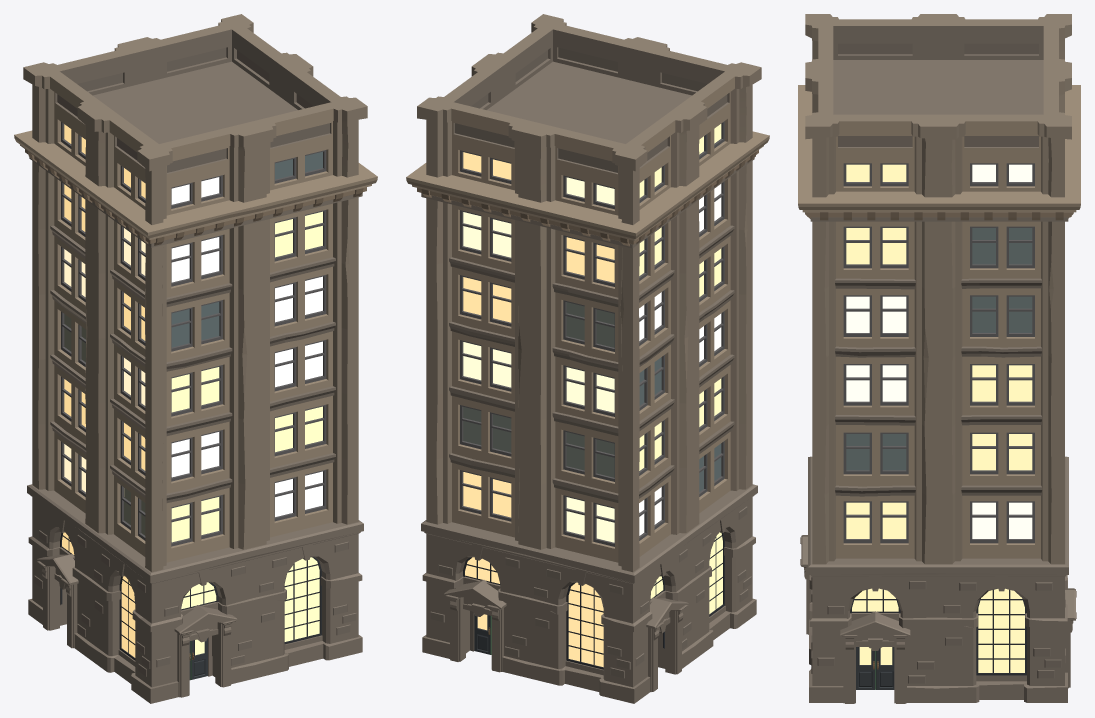
File: SM_Bld_OfficeOld_Small_01.fbx
The picture shows the model from 3 angles, left to right: view 1: azimuth 30°, elevation 25°; view 2: azimuth 150°, elevation 25°; view 3: azimuth 270°, elevation 25°; orthographic projection. The views are drawn at different scales.
Visible parts, largest first — view 1: SM_Bld_OfficeOld_Small_01; view 2: SM_Bld_OfficeOld_Small_01; view 3: SM_Bld_OfficeOld_Small_01.
Part boxes in pixels (x1=…): SM_Bld_OfficeOld_Small_01: x1=14, y1=14, x2=377, y2=703; SM_Bld_OfficeOld_Small_01: x1=406, y1=14, x2=769, y2=703; SM_Bld_OfficeOld_Small_01: x1=798, y1=14, x2=1080, y2=703.
Bounding box in the file's own units: 1112 × 2524 × 1120.
